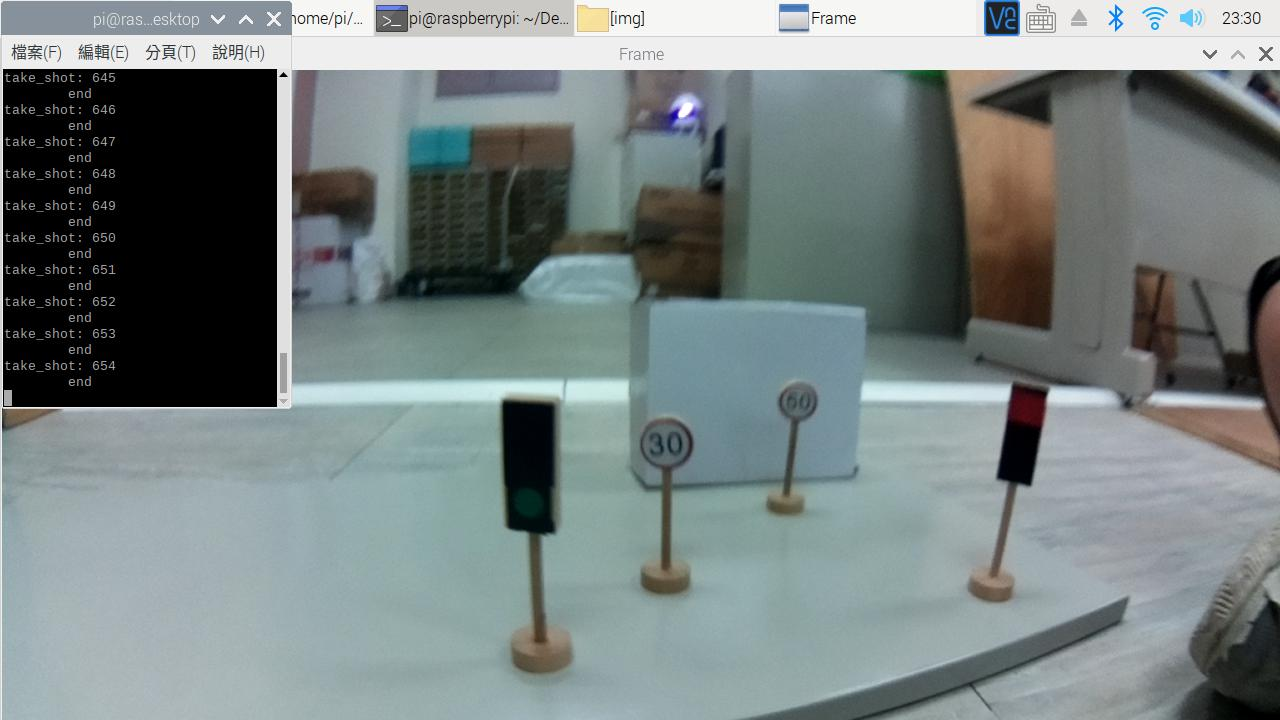Green: (473, 387, 573, 553)
Red: (978, 378, 1066, 495)
Speed30: (638, 409, 714, 477)
